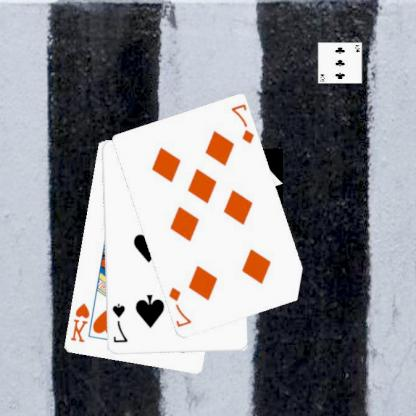7D: (230, 102, 257, 146), (168, 284, 194, 328)
7S: (111, 302, 130, 344)
KH: (69, 300, 93, 344)
